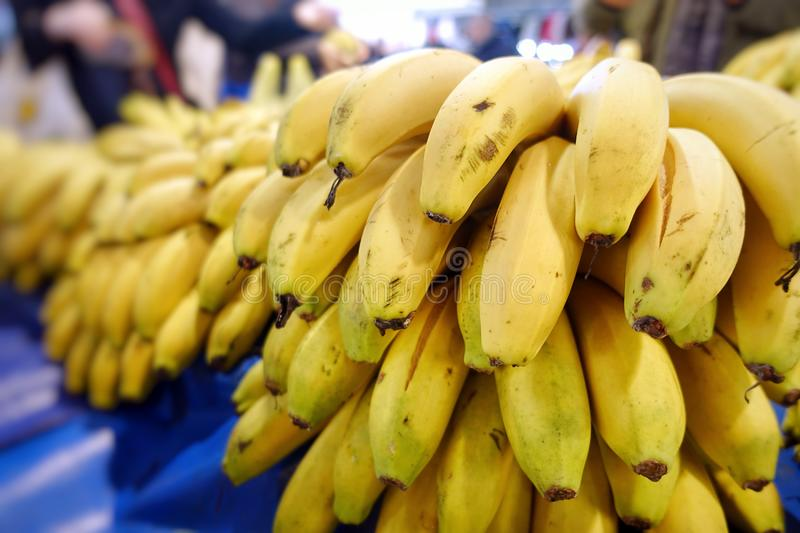looks_good: (227, 36, 800, 533)
